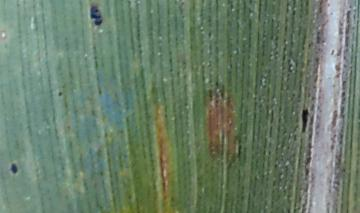tarspot: (87, 2, 105, 27), (299, 106, 310, 134), (235, 139, 244, 161), (8, 161, 19, 175), (54, 90, 65, 98)
